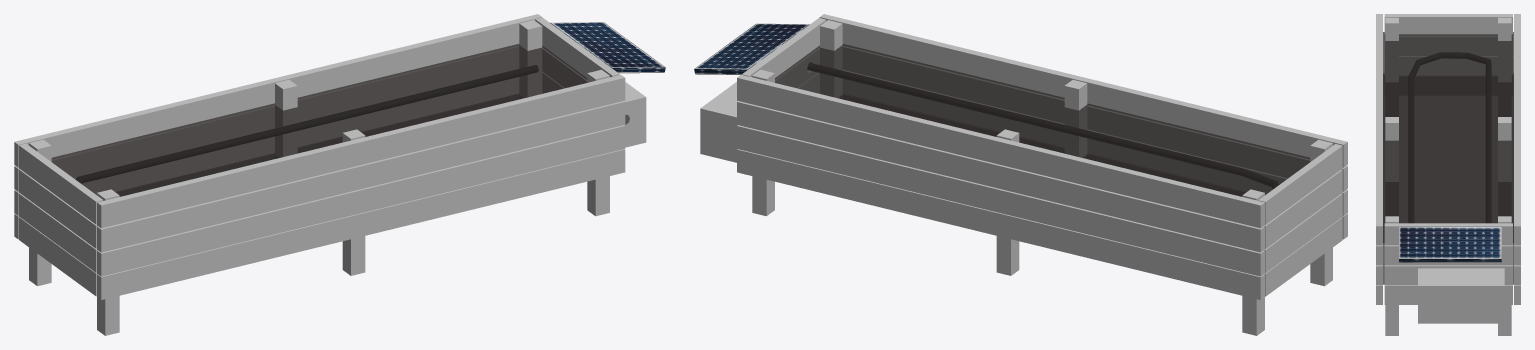
File: GradenBed.fbx
3 views of the same model, side by side, from view 1: azimuth 30°, elevation 25°; view 2: azimuth 150°, elevation 25°; view 3: azimuth 270°, elevation 25° (orthographic). The views are drawn at different scales.
Parts seen in each view (by area): view 1: pasted__pCube1 (×3), pasted__pasted__pCube1 (×5), pasted__pPlane1, pCube1, pasted__pasted__pasted__pCube1 (×3), pCylinder4, pasted__pasted__pCube2 (×2), pasted__pCube2 (×3), pCube3, pasted__pasted__pPlane1, pCube7, pCube2 (+1 smaller); view 2: pasted__pasted__pCube1 (×5), pasted__pCube1 (×4), pasted__pPlane1, pasted__pasted__pasted__pCube1 (×3), pasted__pCube2 (×3), pCylinder4, pCube3, pCube7, pasted__pasted__pCube2 (×2), pasted__pasted__pPlane1, pCube2, group4_pasted__group1_pasted__pasted__pCube1; view 3: pasted__pPlane1, pasted__pasted__pPlane1, pasted__pasted__pasted__pCube1 (×3), pCube7, pasted__pasted__pCube1 (×5), pCube3, pasted__pCube1 (×5), pCylinder4, pasted__pCube2 (×3), pasted__pasted__pCube2 (×2), pCube2, group4_pasted__group1_pasted__pasted__pCube1 (+1 smaller).
Part boxes in pixels (left/top/right/bottom): pasted__pCube1 (×3): left=97, top=74, right=625, bottom=276; pasted__pasted__pCube1 (×5): left=14, top=14, right=619, bottom=296; pasted__pPlane1: left=51, top=44, right=587, bottom=196; pCube1: left=97, top=149, right=625, bottom=299; pasted__pasted__pasted__pCube1 (×3): left=19, top=143, right=103, bottom=272; pCylinder4: left=76, top=65, right=538, bottom=183; pasted__pasted__pCube2 (×2): left=275, top=20, right=542, bottom=157; pasted__pCube2 (×3): left=29, top=69, right=609, bottom=286; pCube3: left=550, top=22, right=665, bottom=73; pasted__pasted__pPlane1: left=116, top=94, right=522, bottom=196; pCube7: left=624, top=82, right=646, bottom=147; pCube2: left=97, top=189, right=119, bottom=335; pasted__pasted__pCube1 (×5): left=737, top=18, right=1342, bottom=296; pasted__pCube1 (×4): left=737, top=14, right=1347, bottom=300; pasted__pPlane1: left=775, top=44, right=1310, bottom=196; pasted__pasted__pasted__pCube1 (×3): left=1258, top=144, right=1342, bottom=272; pasted__pCube2 (×3): left=820, top=20, right=1264, bottom=335; pCylinder4: left=807, top=63, right=1278, bottom=188; pCube3: left=694, top=23, right=809, bottom=74; pCube7: left=700, top=82, right=737, bottom=162; pasted__pasted__pCube2 (×2): left=752, top=69, right=1019, bottom=275; pasted__pasted__pPlane1: left=839, top=94, right=1245, bottom=196; pCube2: left=1310, top=139, right=1332, bottom=286; group4_pasted__group1_pasted__pasted__pCube1: left=775, top=47, right=819, bottom=87; pasted__pPlane1: left=1383, top=32, right=1513, bottom=243; pasted__pasted__pPlane1: left=1383, top=74, right=1513, bottom=284; pasted__pasted__pasted__pCube1 (×3): left=1384, top=14, right=1512, bottom=75; pCube7: left=1418, top=268, right=1504, bottom=323; pasted__pasted__pCube1 (×5): left=1384, top=14, right=1520, bottom=285; pCube3: left=1399, top=227, right=1501, bottom=262; pasted__pCube1 (×5): left=1376, top=14, right=1520, bottom=304; pCylinder4: left=1408, top=52, right=1491, bottom=222; pasted__pCube2 (×3): left=1385, top=17, right=1511, bottom=335; pasted__pasted__pCube2 (×2): left=1498, top=117, right=1511, bottom=335; pCube2: left=1385, top=17, right=1398, bottom=82; group4_pasted__group1_pasted__pasted__pCube1: left=1384, top=245, right=1512, bottom=265.
Size of what is drawn, in the model's own units: 13.24 by 3 by 3.46.
